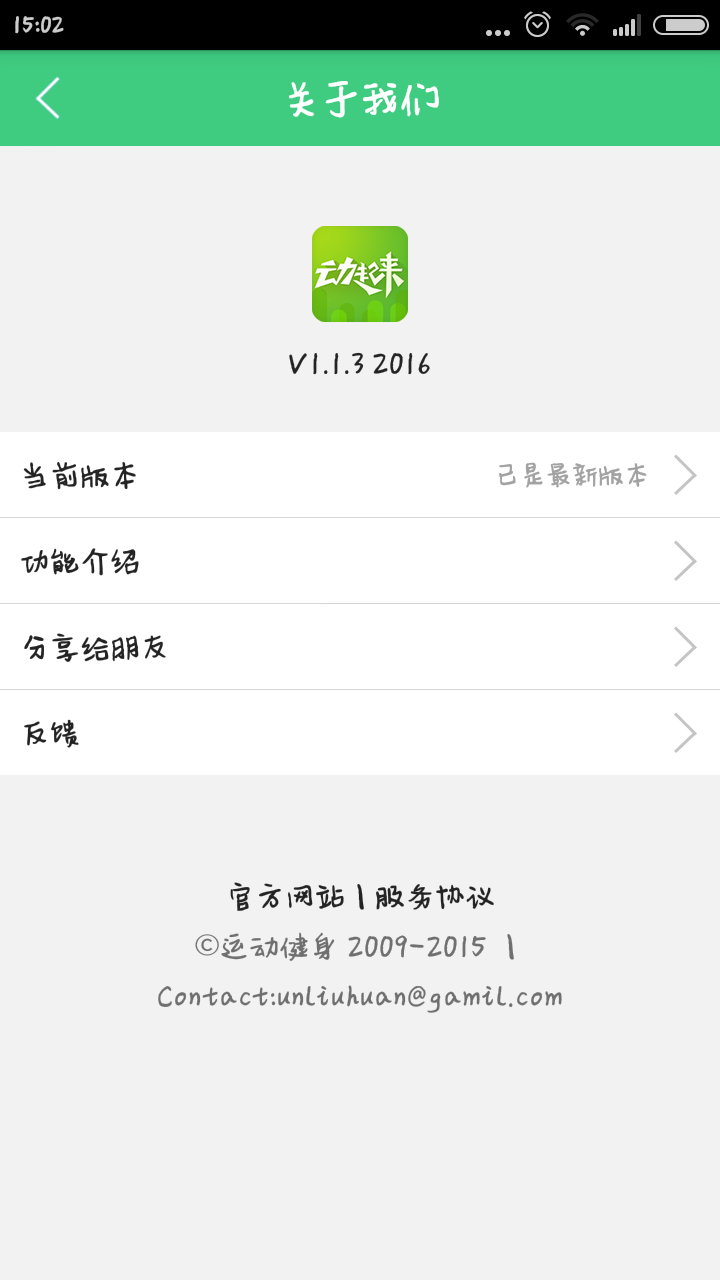button: (2, 680, 718, 784)
imgview: (297, 218, 418, 331)
